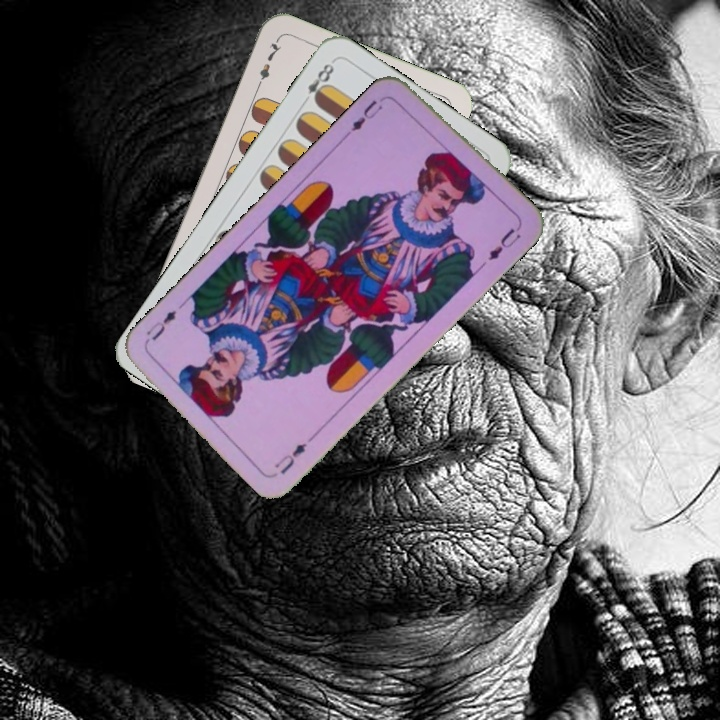E7: (252, 36, 285, 92)
E8: (297, 57, 337, 108)
EU: (347, 92, 388, 134), (270, 438, 310, 477)
